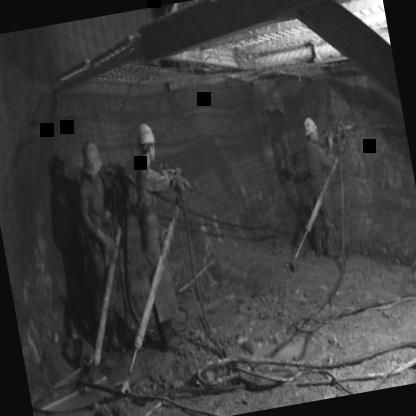helmet: (76, 138, 112, 202), (132, 118, 161, 164), (300, 112, 322, 144)
